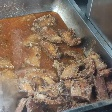hongshaodaiyu: (1, 10, 112, 111)
